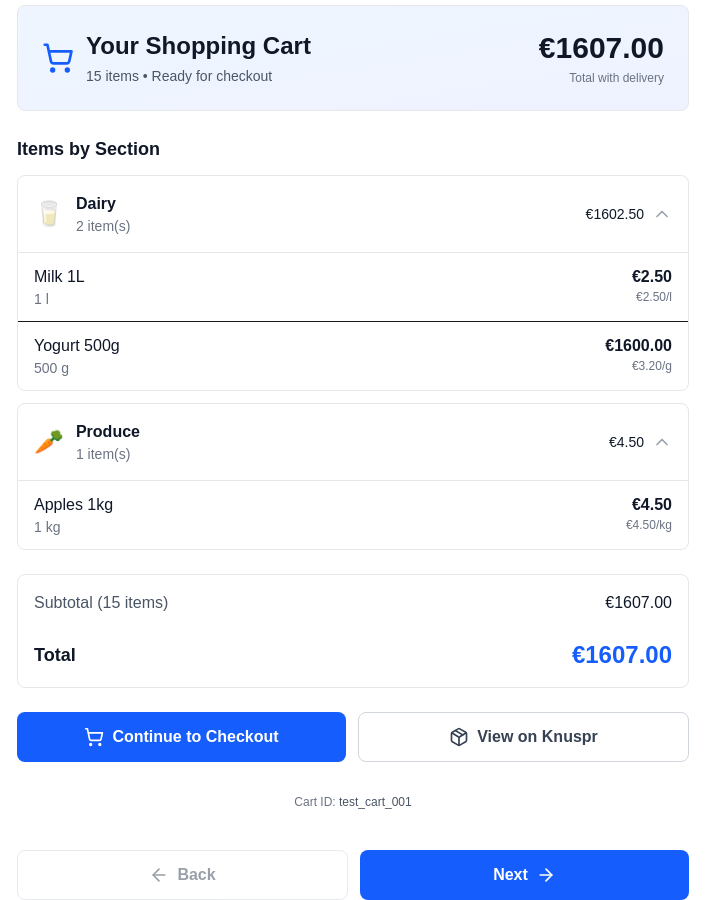
Test case: CheckoutFlow Component › Step 2: Delivery Selection › confirms delivery when slot is selected
The image size is (706, 900).
(page scrolled)
Click the button "Next".
click(524, 875)  # box [360,850,689,899]
(page scrolled)
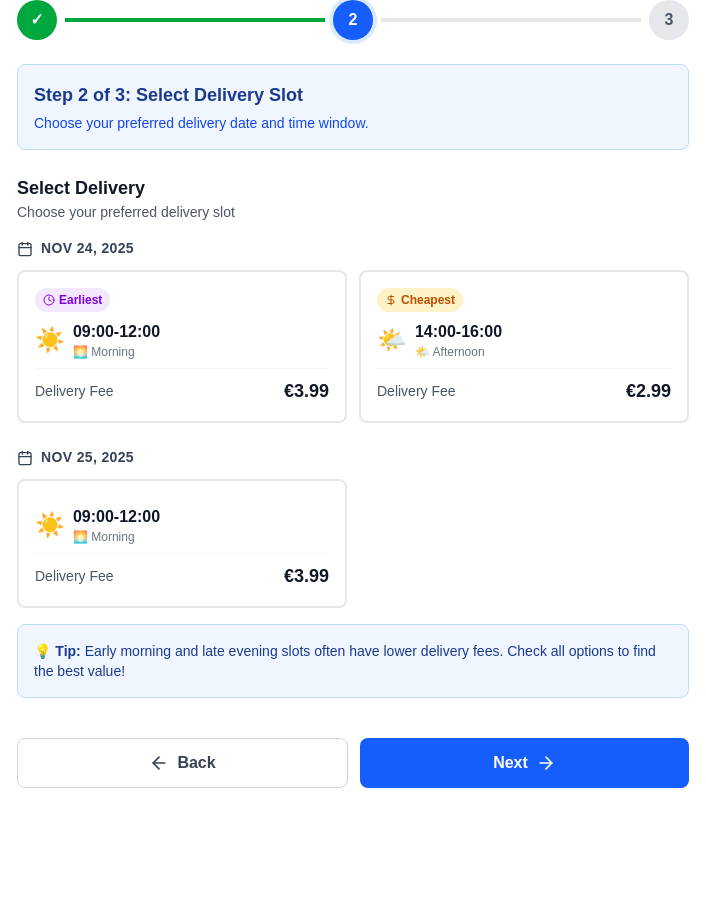
expect the heading "Step 2 of 3: Select Delivery Slot" is shown: met, box [34,85,303,105]
Select a slot - use getAllByText since there may be multiple slots with same time
Click the button "Earliest ☀️ 09:00-12:00 🌅 Morning Delivery Fee €3.99".
click(73, 300)  # box [17,270,347,423]
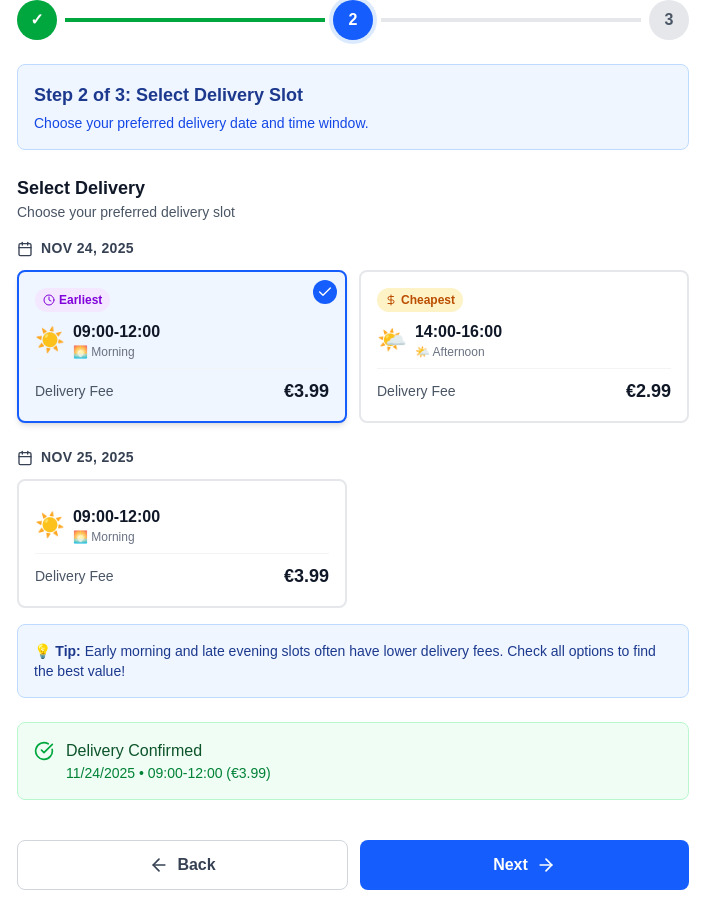
expect the text "Delivery Confirmed" is shown: met, box [66,742,202,759]
